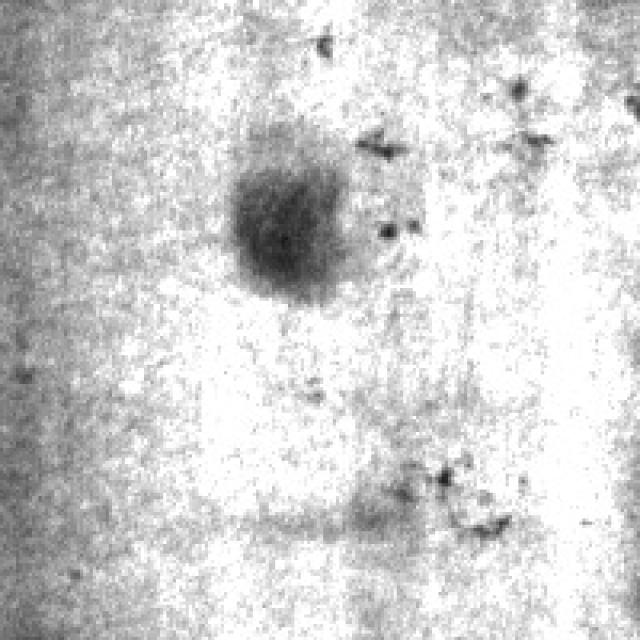patches: (214, 147, 340, 307)
